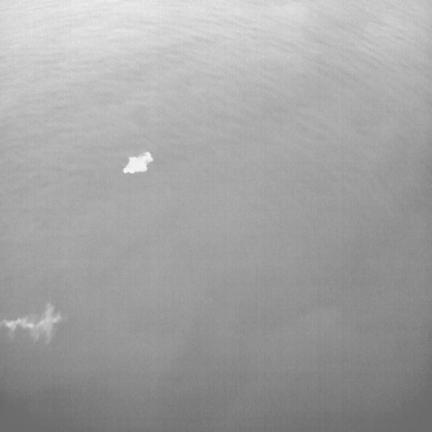flukeprints: (123, 152, 153, 173)
